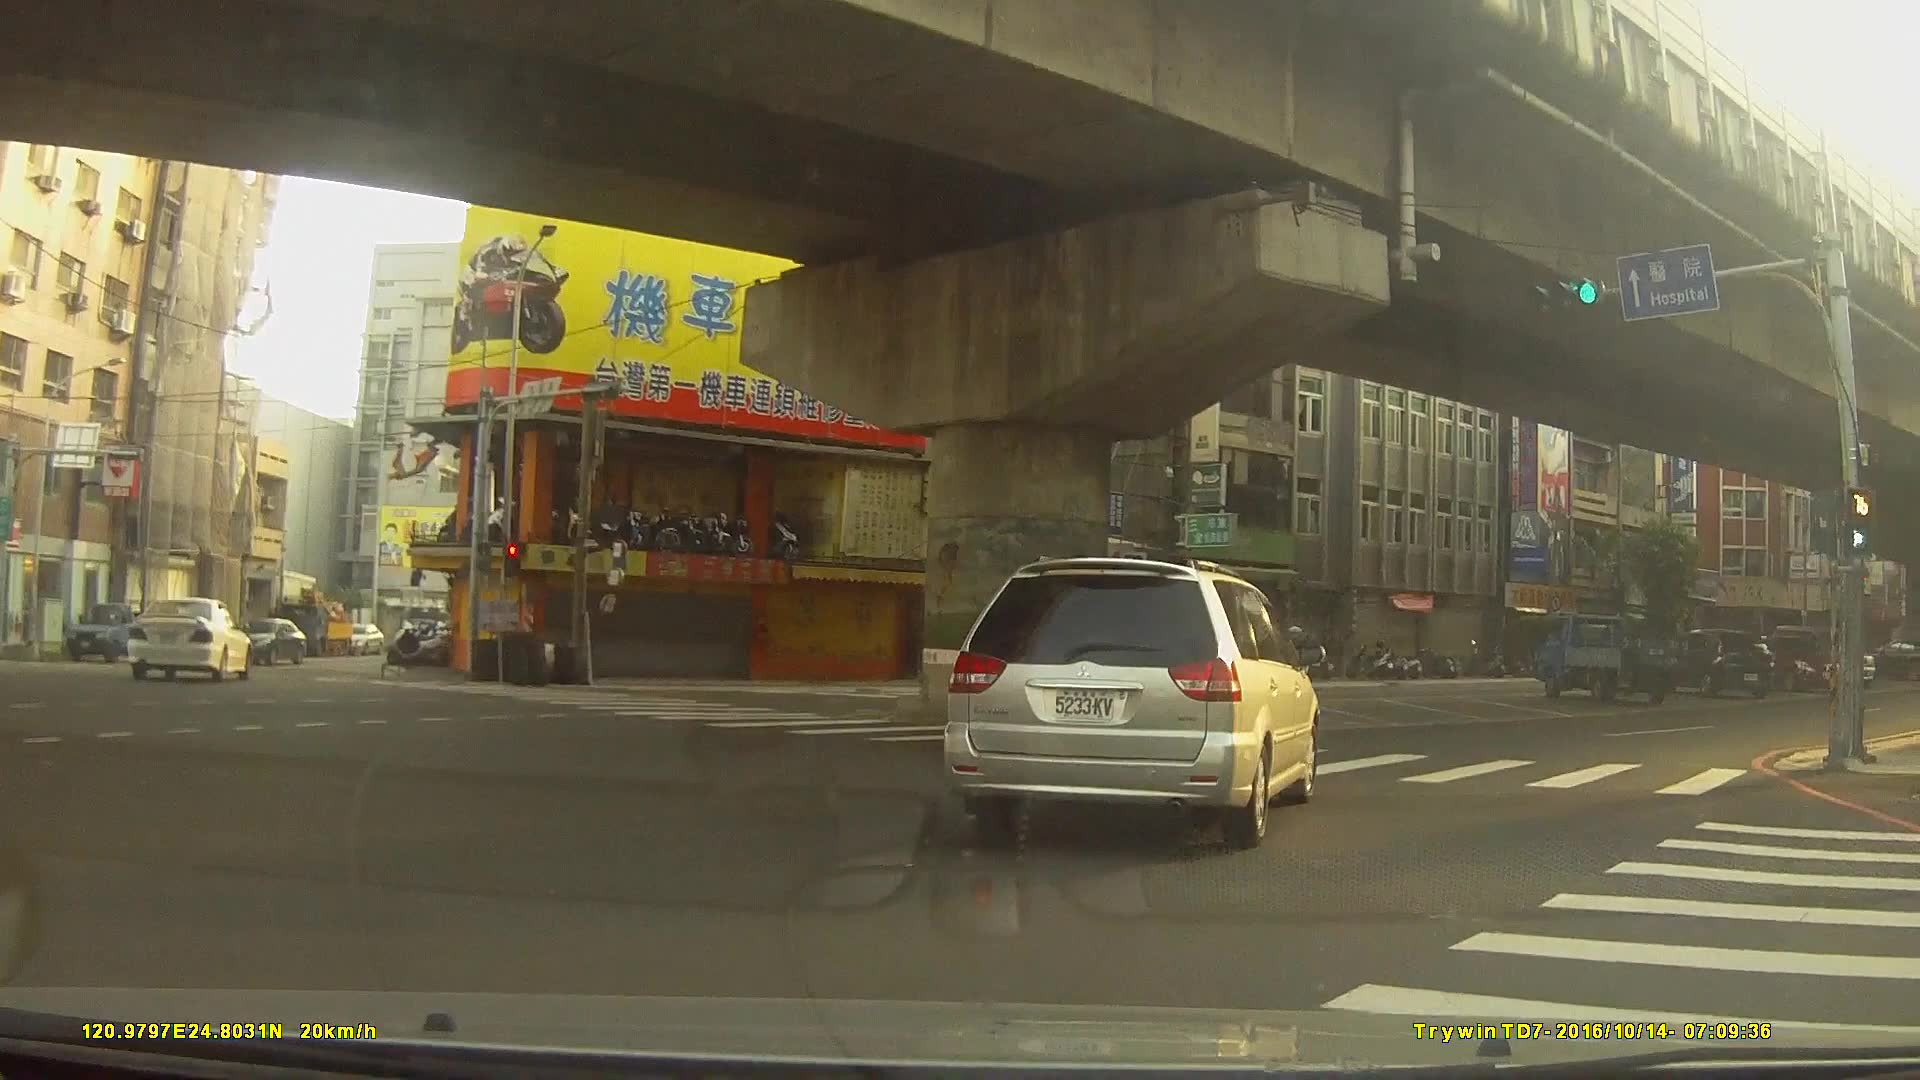vehicle: (943, 556, 1319, 847), (1534, 609, 1691, 702), (125, 595, 251, 682), (1651, 625, 1776, 694), (1749, 632, 1844, 692), (66, 597, 156, 659), (235, 615, 306, 662), (342, 621, 382, 651)
